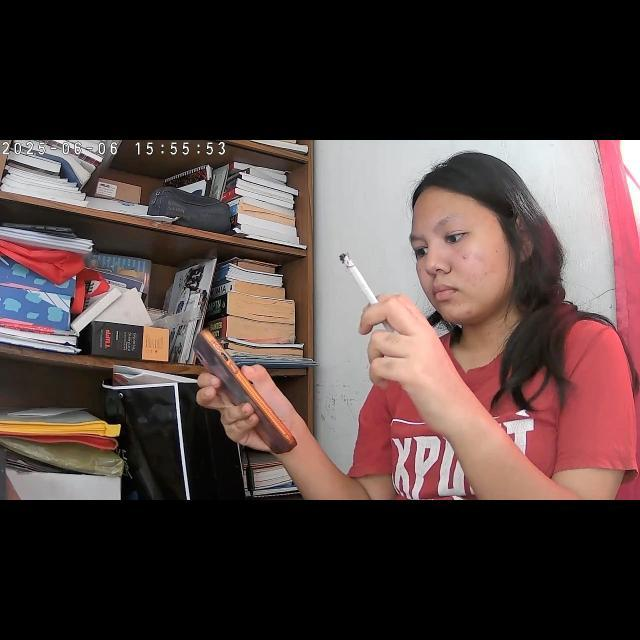rokok: (338, 251, 398, 335)
